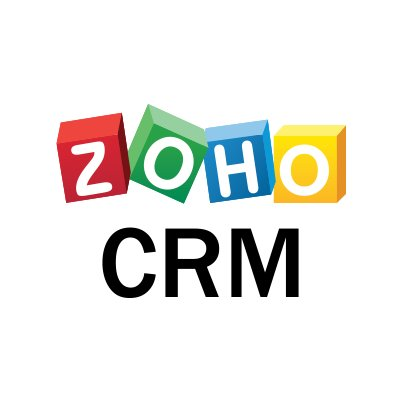zoho: (56, 103, 348, 203)
